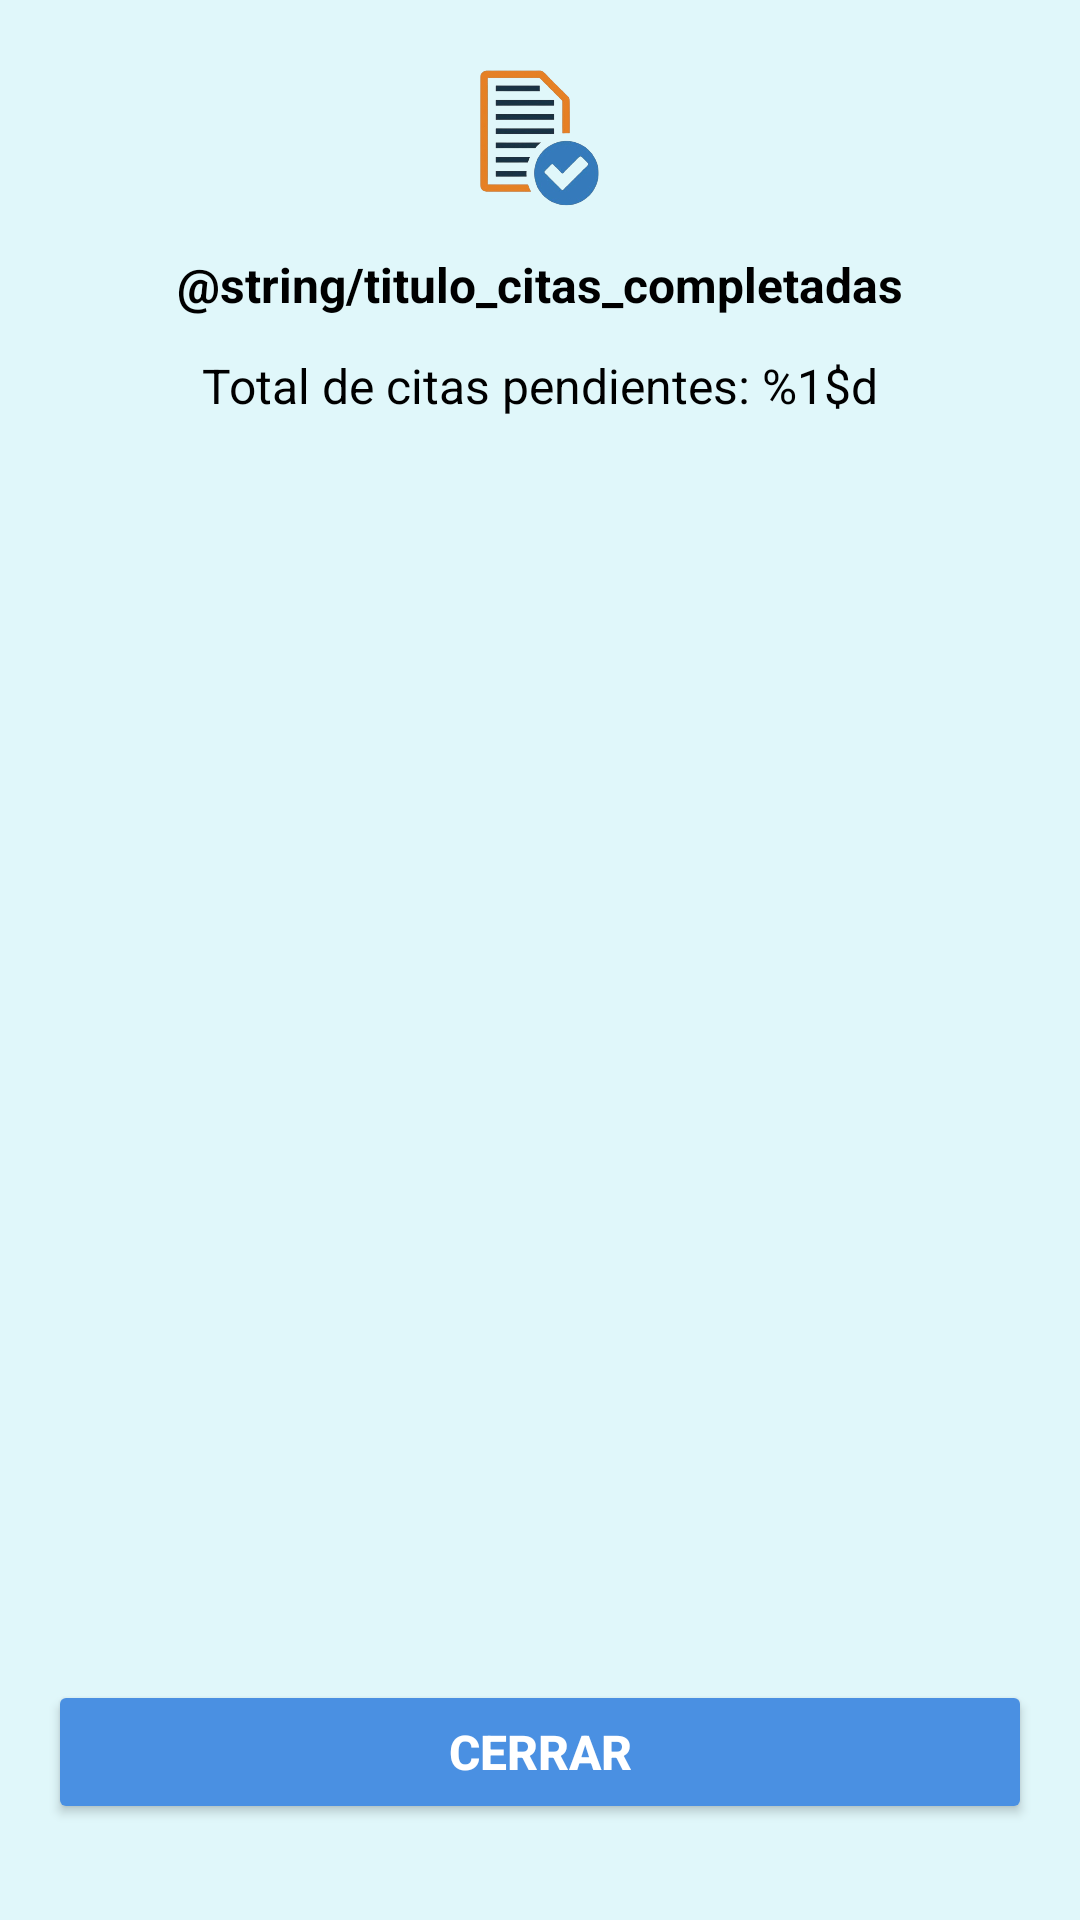

Icons on this 1080 × 1920 Android screen, each with its box as (x1, y1, x2, y2):
Ícono de servicios completados: (480, 70, 599, 205)
